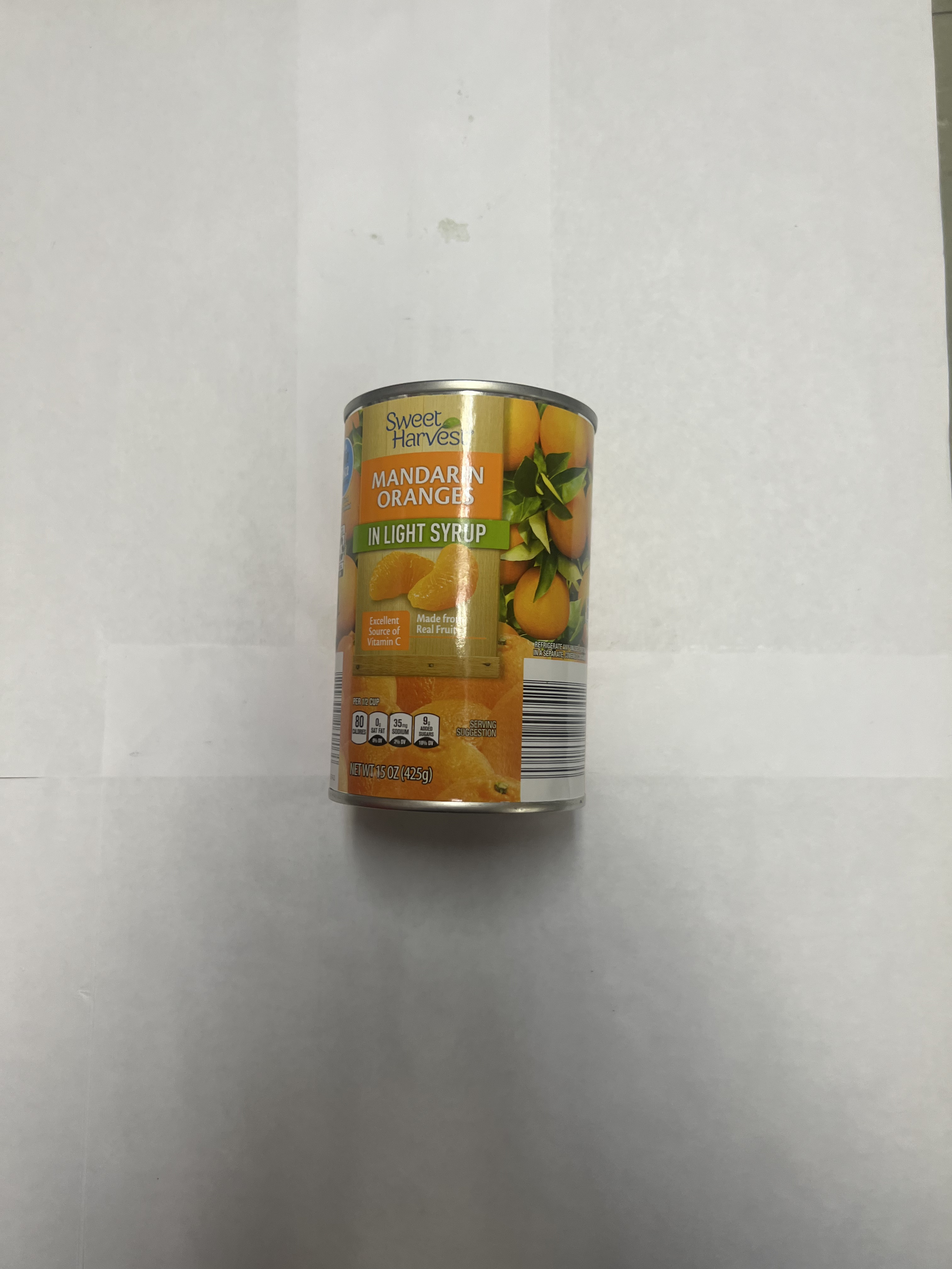packaged: (328, 374, 599, 823)
